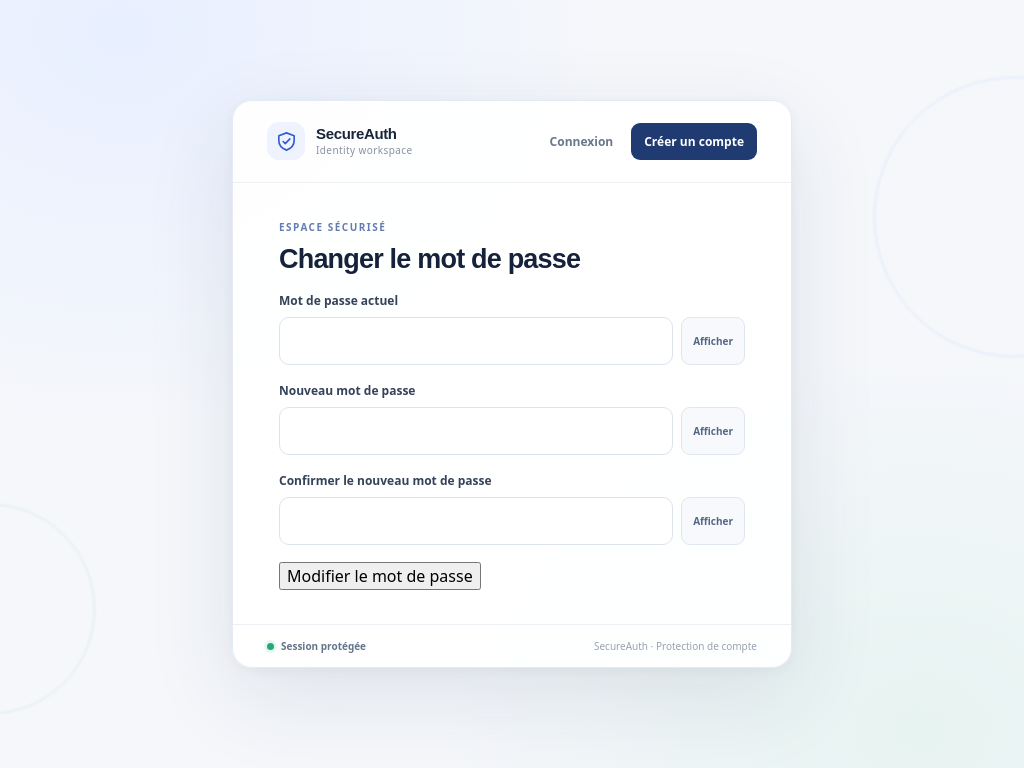
Test: frontend security behavior › changes the password through the account API
This screenshot has width=1024, height=768.
Type "old passphrase" into the password field labelled "Mot de passe actuel" at {"x": 476, "y": 342}, box [279,318,673,366]
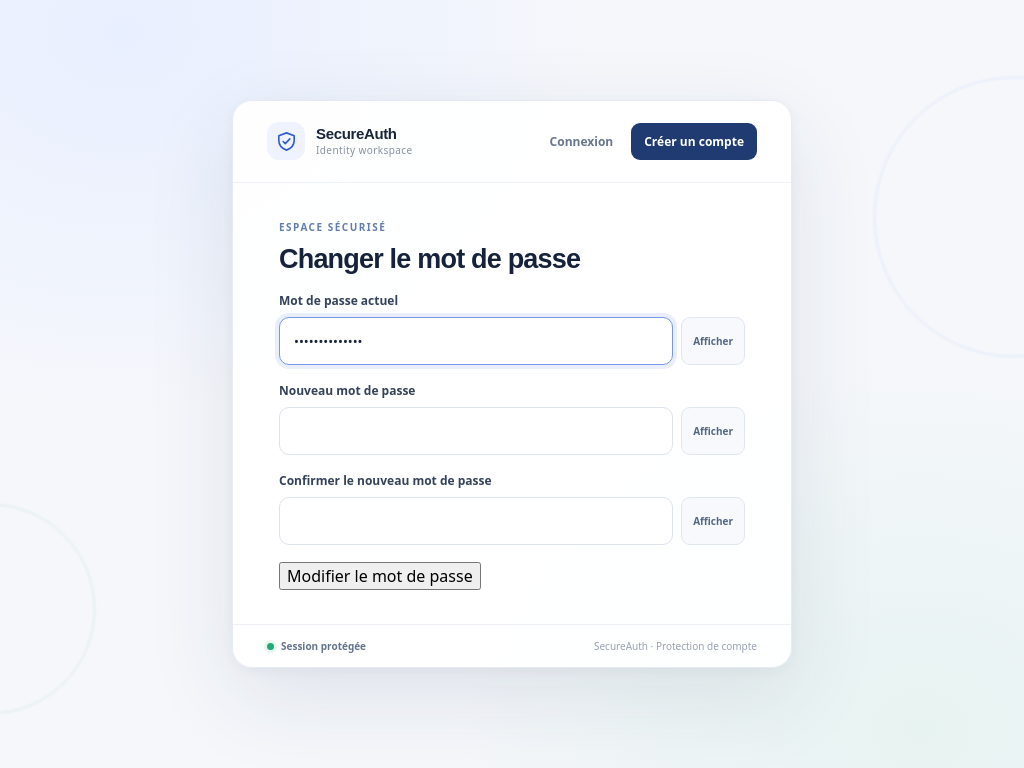
Type "new long passphrase" into the password field labelled "Nouveau mot de passe" at {"x": 476, "y": 432}, box [279,408,673,456]
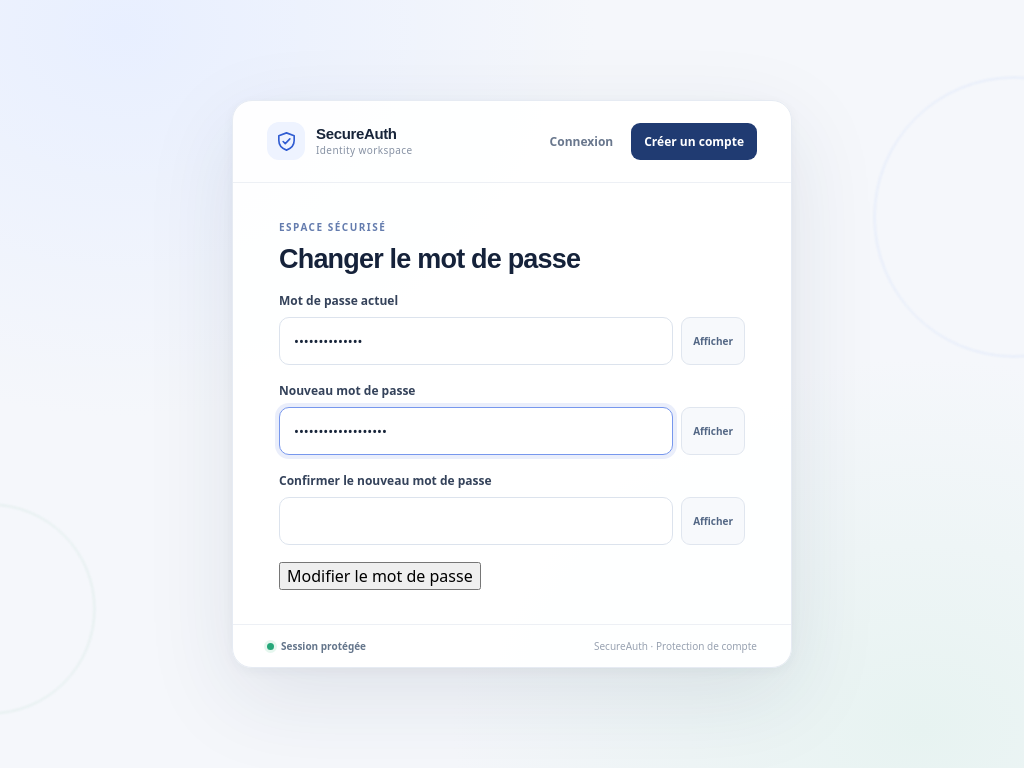
Type "new long passphrase" into the password field labelled "Confirmer le nouveau mot de passe" at {"x": 476, "y": 522}, box [279,498,673,546]
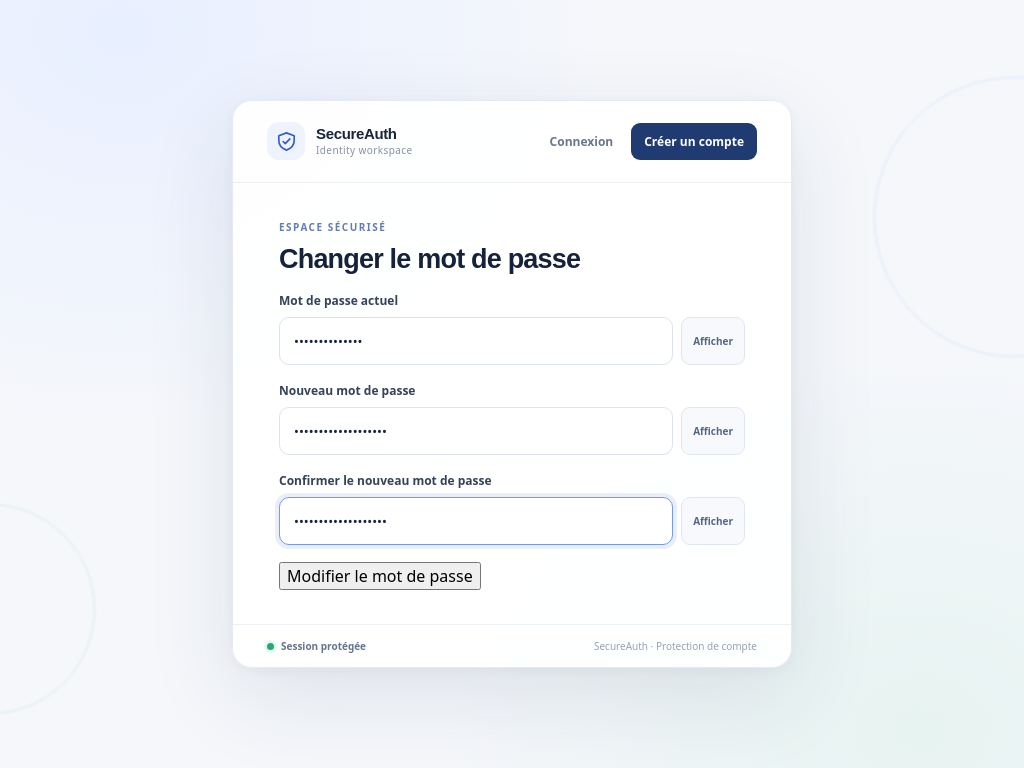
Click the button "Modifier le mot de passe" at {"x": 380, "y": 576}, box [279,562,481,590]
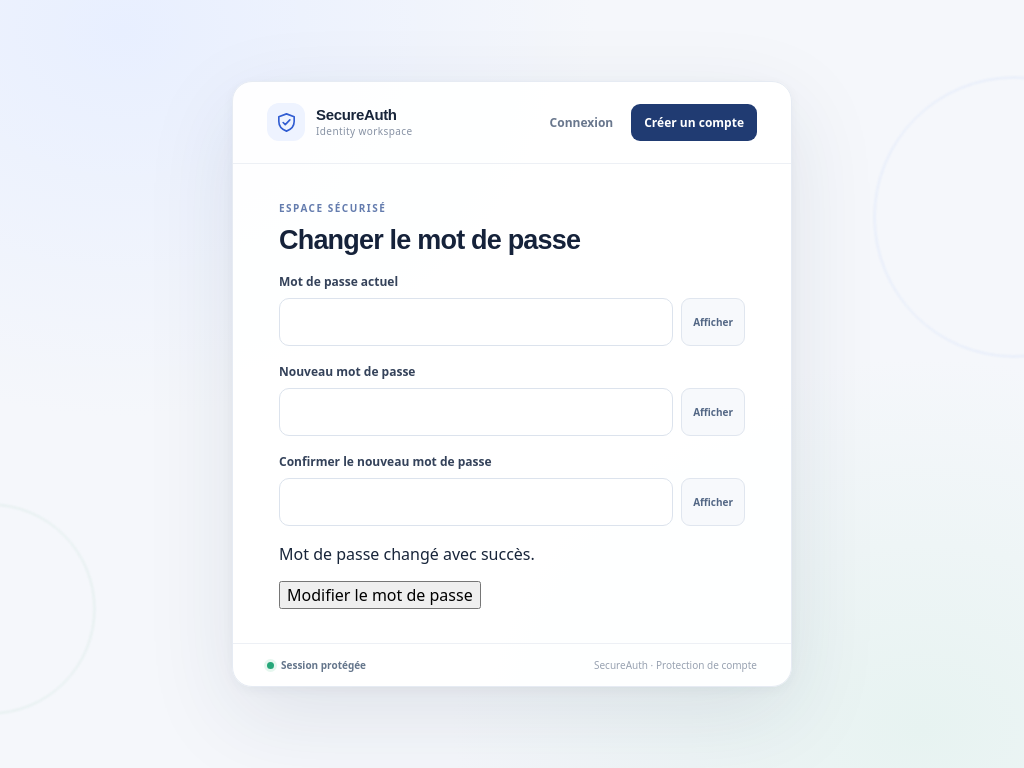
Expected: the message reads "Mot de passe changé avec succès.", [279,544,535,566]
